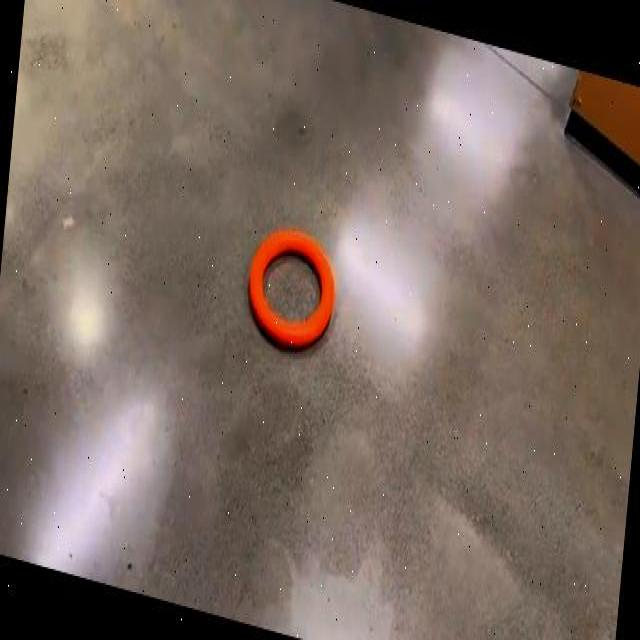note: (249, 228, 335, 347)
